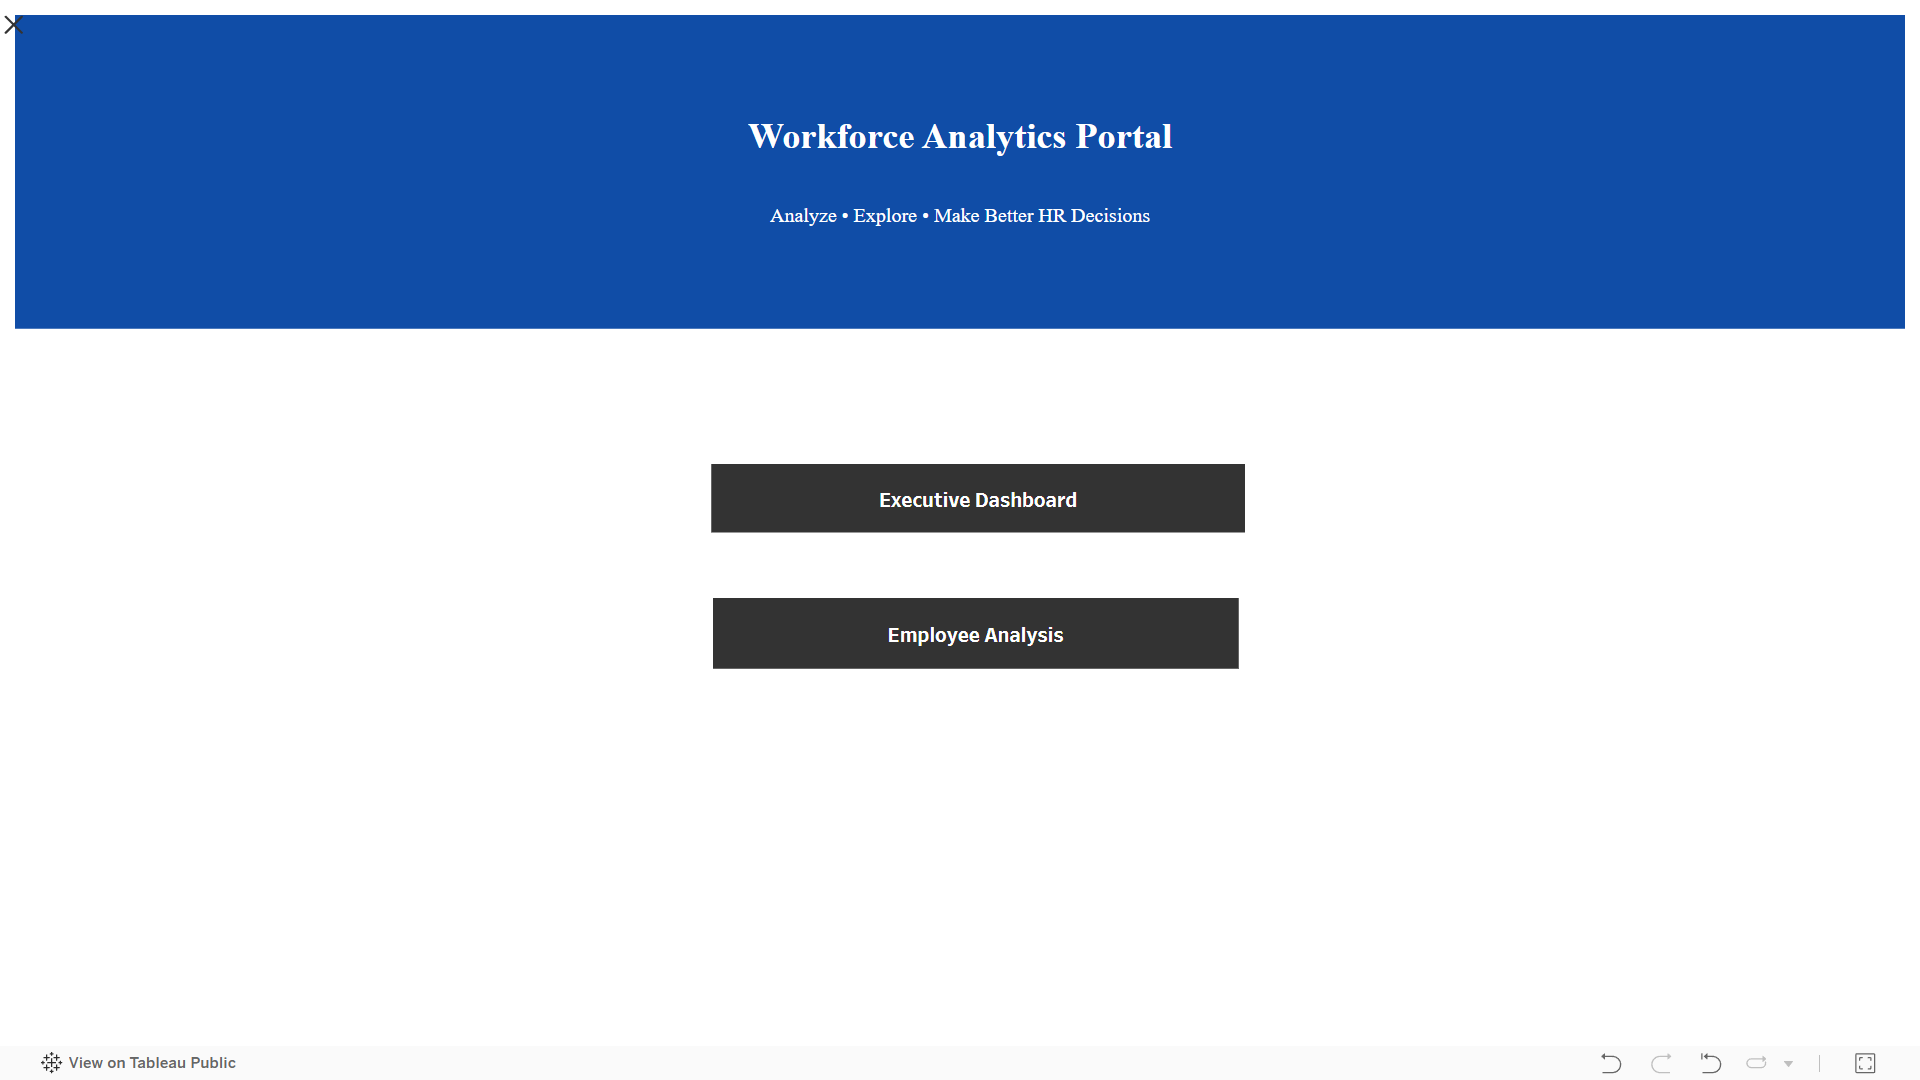

The dashboard page shown, as its layout file describes it:
{"tool":"tableau","page":{"name":"Home","canvas":[1000,1000],"units":"permille","ordinal":2},"visuals":[{"type":"dashboard-object","box":[0,9.4,14.5,28.2]},{"type":"title","box":[4.8,9.4,990.4,239.7]},{"type":"dashboard-object","box":[368.4,380.7,278.8,65.8]},{"type":"dashboard-object","box":[370.9,497.1,274.5,68.2]}]}

Visuals, with their boxes on the dashboard's canvas, which has no fixed pixel size, in thousandths of its width and height (x1, y1, x2, y2). These are canvas units, not pixel positions in the 1920x1080 screenshot, which may show the page scaled, cropped or inside an application window:
dashboard-object: x1=0, y1=9, x2=14, y2=38
title: x1=5, y1=9, x2=995, y2=249
dashboard-object: x1=368, y1=381, x2=647, y2=446
dashboard-object: x1=371, y1=497, x2=645, y2=565
